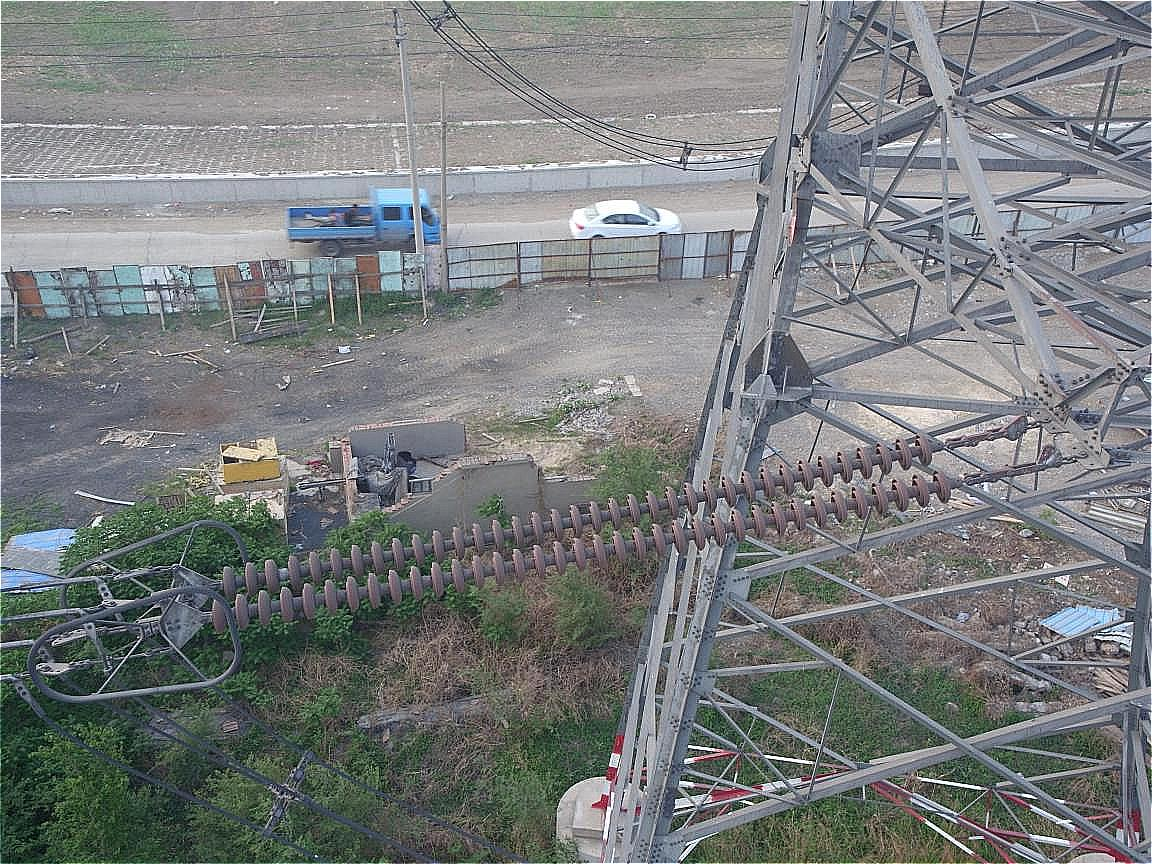insultor1: (188, 411, 968, 664)
